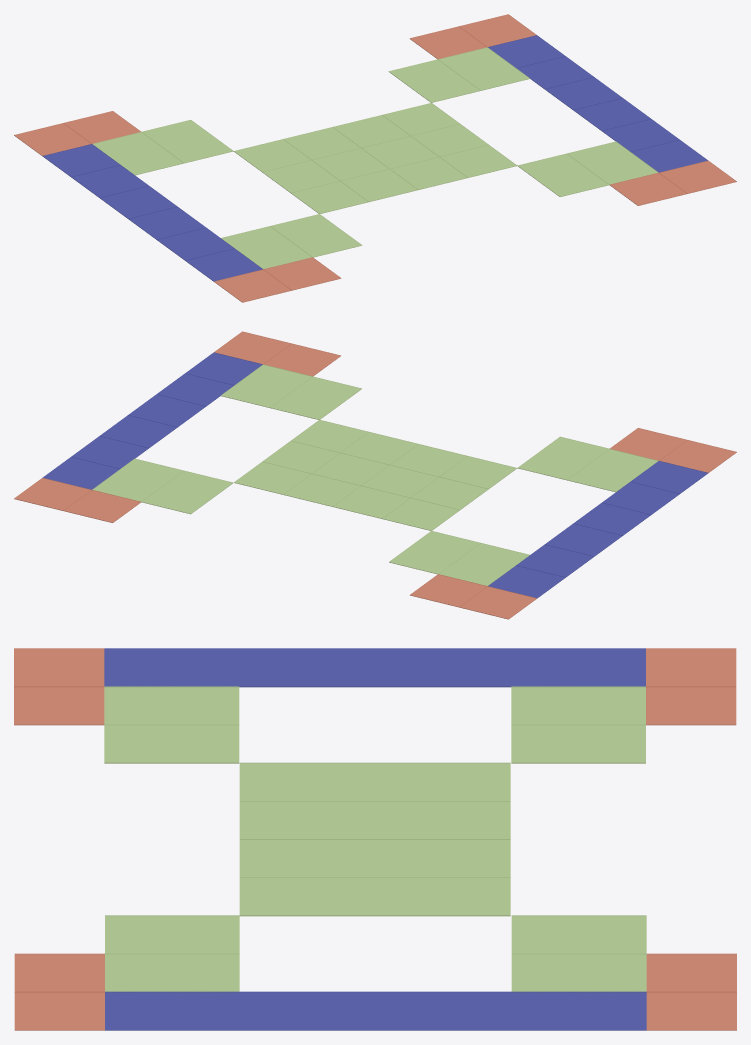
3 views of the same model, one above another, from view 1: azimuth 30°, elevation 25°; view 2: azimuth 150°, elevation 25°; view 3: azimuth 270°, elevation 25° (orthographic). The views are drawn at different scales.
Visible parts, largest first — view 1: polySurface380, polySurface381, polySurface364, polySurface365, polySurface382, polySurface379, polySurface378, polySurface383, polySurface368, polySurface361, polySurface386, polySurface384 (+28 smaller); view 2: polySurface381, polySurface380, polySurface383, polySurface378, polySurface379, polySurface365, polySurface364, polySurface382, polySurface355, polySurface366, polySurface393, polySurface354 (+28 smaller); view 3: polySurface379, polySurface365, polySurface378, polySurface381, polySurface382, polySurface364, polySurface380, polySurface383, polySurface358, polySurface375, polySurface388, polySurface391 (+28 smaller).
Boxes of the visible parts, left/top/right/bottom form: polySurface380: left=517, top=153, right=609, bottom=196; polySurface381: left=388, top=59, right=480, bottom=102; polySurface364: left=92, top=132, right=183, bottom=175; polySurface365: left=142, top=120, right=233, bottom=163; polySurface382: left=438, top=47, right=530, bottom=90; polySurface379: left=270, top=214, right=362, bottom=257; polySurface378: left=221, top=226, right=312, bottom=269; polySurface383: left=567, top=141, right=658, bottom=184; polySurface368: left=291, top=181, right=368, bottom=213; polySurface361: left=214, top=269, right=291, bottom=302; polySurface386: left=610, top=172, right=687, bottom=205; polySurface384: left=659, top=160, right=736, bottom=193; polySurface381: left=141, top=470, right=233, bottom=514; polySurface380: left=270, top=376, right=361, bottom=419; polySurface383: left=220, top=364, right=312, bottom=407; polySurface378: left=567, top=448, right=658, bottom=492; polySurface379: left=517, top=436, right=608, bottom=480; polySurface365: left=389, top=531, right=480, bottom=574; polySurface364: left=439, top=543, right=529, bottom=585; polySurface382: left=92, top=458, right=183, bottom=501; polySurface355: left=459, top=586, right=536, bottom=619; polySurface366: left=382, top=498, right=459, bottom=530; polySurface393: left=63, top=490, right=141, bottom=522; polySurface354: left=410, top=574, right=487, bottom=607; polySurface379: left=104, top=724, right=239, bottom=763; polySurface365: left=511, top=724, right=645, bottom=763; polySurface378: left=104, top=686, right=239, bottom=724; polySurface381: left=511, top=915, right=646, bottom=953; polySurface382: left=511, top=953, right=646, bottom=991; polySurface364: left=511, top=686, right=645, bottom=724; polySurface380: left=105, top=915, right=239, bottom=953; polySurface383: left=105, top=953, right=239, bottom=991; polySurface358: left=375, top=648, right=465, bottom=687; polySurface375: left=420, top=877, right=510, bottom=916; polySurface388: left=285, top=991, right=375, bottom=1030; polySurface391: left=556, top=991, right=646, bottom=1030.
Bounding box in the file's own units: 10 × 0.01 × 8.01.
